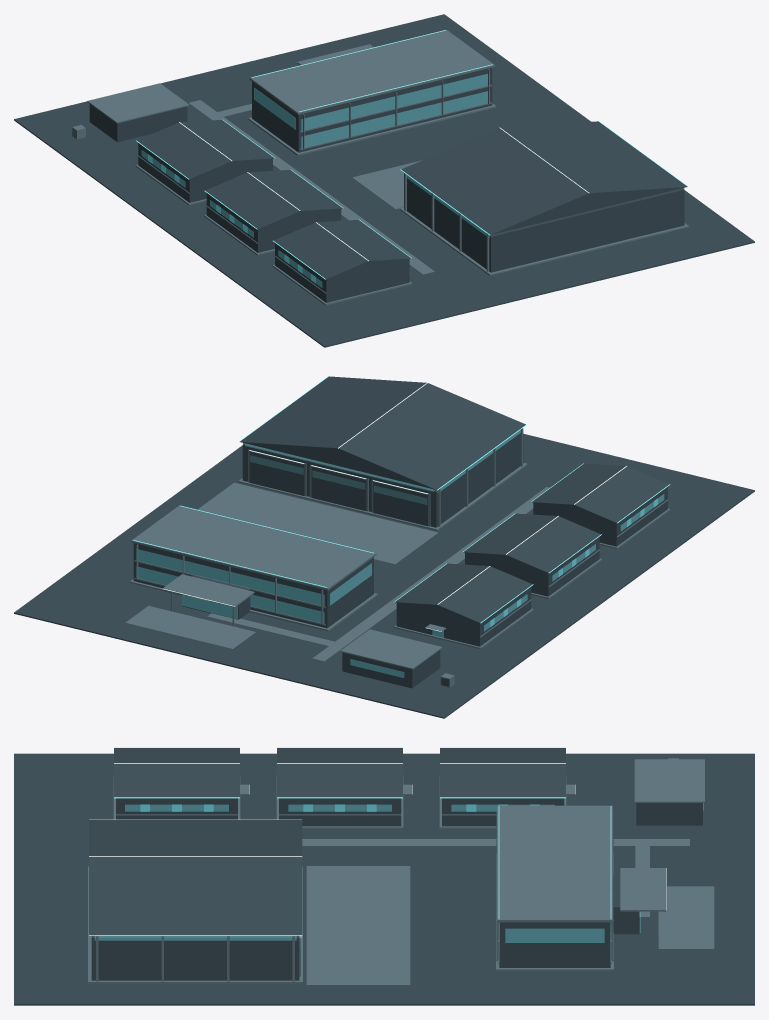
File: military_base.lod1.glb
3 renders of one model, top to bottom at view 1: azimuth 30°, elevation 25°; view 2: azimuth 150°, elevation 25°; view 3: azimuth 270°, elevation 25°, orthographic. The views are drawn at different scales.
Parts seen in each view (by area): view 1: military_base_graphite.001, military_base_graphite_light.001, military_base_glass.001, military_base_edge.001; view 2: military_base_graphite.001, military_base_graphite_light.001, military_base_glass.001, military_base_edge.001, military_base_white.001; view 3: military_base_graphite.001, military_base_graphite_light.001, military_base_glass.001, military_base_edge.001, military_base_white.001.
Boxes of the visible parts, box(x1,y1,x2,y2) form: military_base_graphite.001: box(14, 14, 754, 347); military_base_graphite_light.001: box(72, 29, 688, 305); military_base_glass.001: box(142, 74, 683, 287); military_base_edge.001: box(136, 30, 688, 279); military_base_graphite.001: box(14, 376, 754, 718); military_base_graphite_light.001: box(125, 428, 670, 687); military_base_glass.001: box(138, 430, 663, 677); military_base_edge.001: box(133, 376, 670, 623); military_base_white.001: box(163, 382, 626, 631); military_base_graphite.001: box(14, 748, 754, 1005); military_base_graphite_light.001: box(88, 758, 714, 985); military_base_glass.001: box(95, 803, 703, 942); military_base_edge.001: box(89, 747, 611, 935); military_base_white.001: box(89, 763, 666, 937).
Bounding box in the file's own units: 160 × 21.2 × 200.
